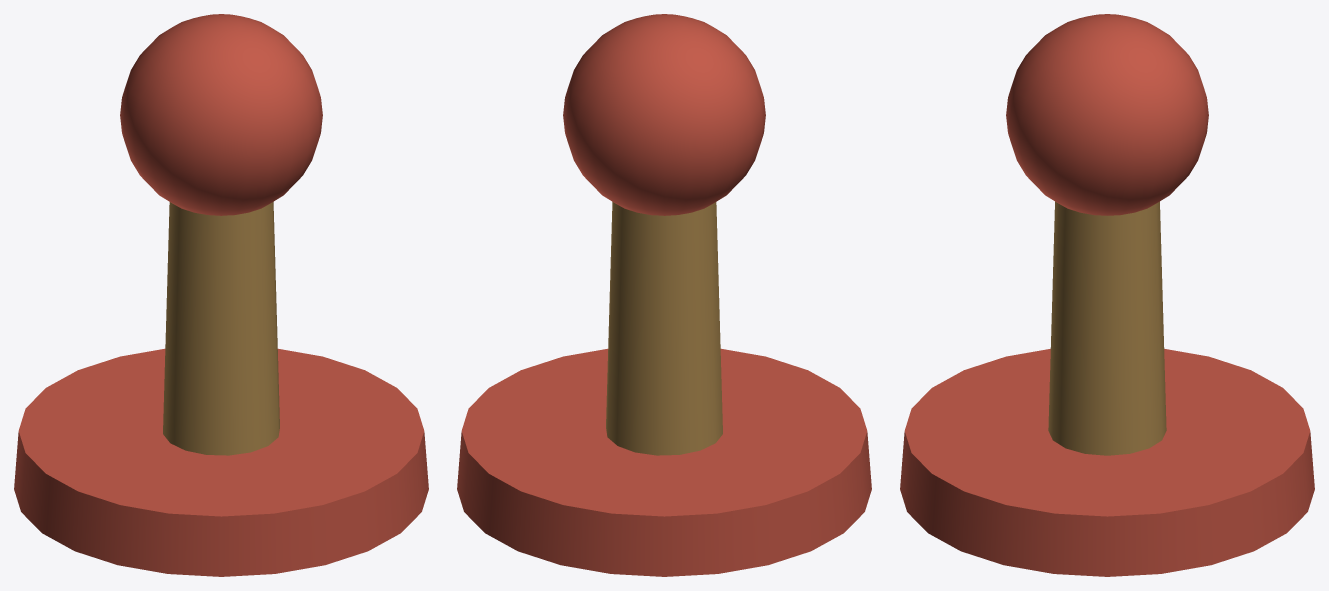
File: metropole-owner-marker.glb
3 views of the same model, side by side, from view 1: azimuth 30°, elevation 25°; view 2: azimuth 150°, elevation 25°; view 3: azimuth 270°, elevation 25° (orthographic).
Visible parts, largest first — view 1: Ownership_base, Owner_color, Brass_post; view 2: Ownership_base, Owner_color, Brass_post; view 3: Ownership_base, Owner_color, Brass_post.
Boxes of the visible parts, bbox=[...] form: Ownership_base: bbox=[14, 348, 428, 576]; Owner_color: bbox=[120, 14, 322, 215]; Brass_post: bbox=[163, 202, 279, 455]; Ownership_base: bbox=[457, 348, 871, 576]; Owner_color: bbox=[563, 14, 765, 215]; Brass_post: bbox=[606, 202, 722, 455]; Ownership_base: bbox=[900, 349, 1314, 576]; Owner_color: bbox=[1006, 14, 1208, 215]; Brass_post: bbox=[1048, 201, 1166, 455].
Size of the model in its own units: 0.18 by 0.223 by 0.18.
